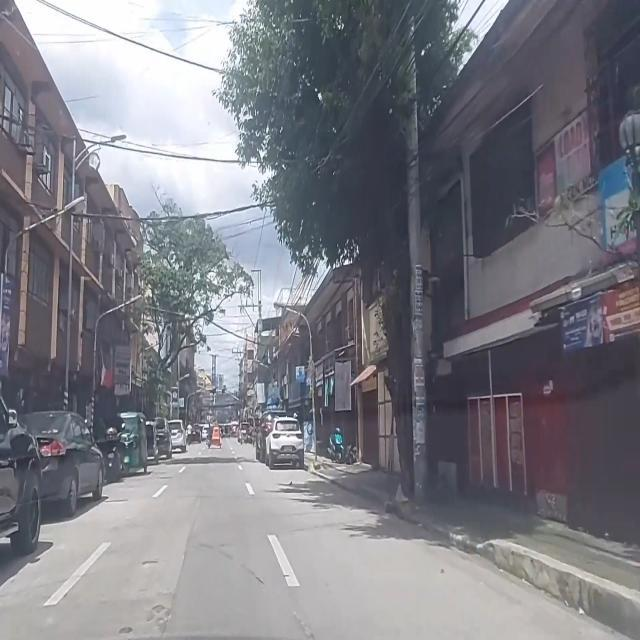car: (18, 412, 104, 517), (0, 392, 43, 552), (266, 416, 305, 469), (255, 411, 288, 464), (152, 418, 172, 458), (168, 420, 186, 452)
motorcycle: (102, 418, 125, 482), (326, 422, 344, 466)
tricycle: (117, 412, 148, 475), (206, 420, 222, 449)
